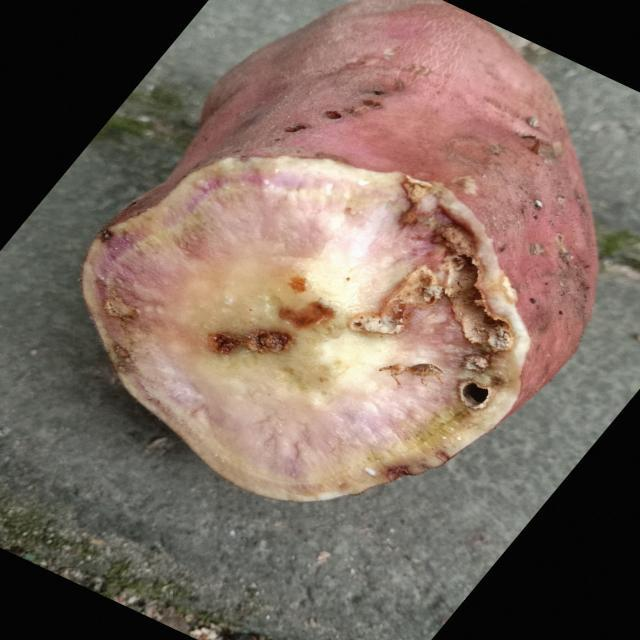Sick Sweet Potato_Tuber Rot: (82, 156, 530, 501)
